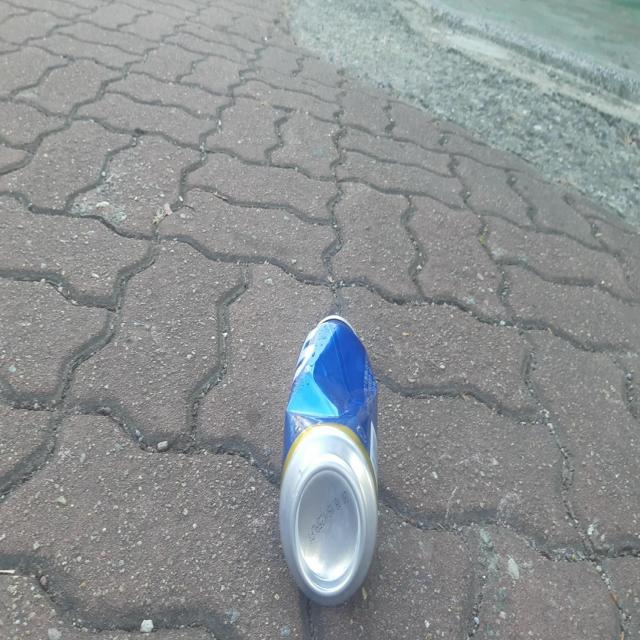can: (279, 315, 378, 605)
